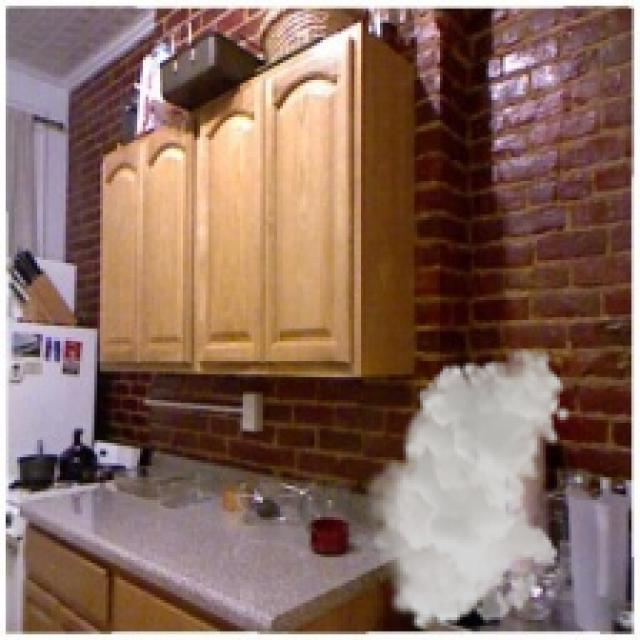Smoke: (363, 348, 571, 632)
